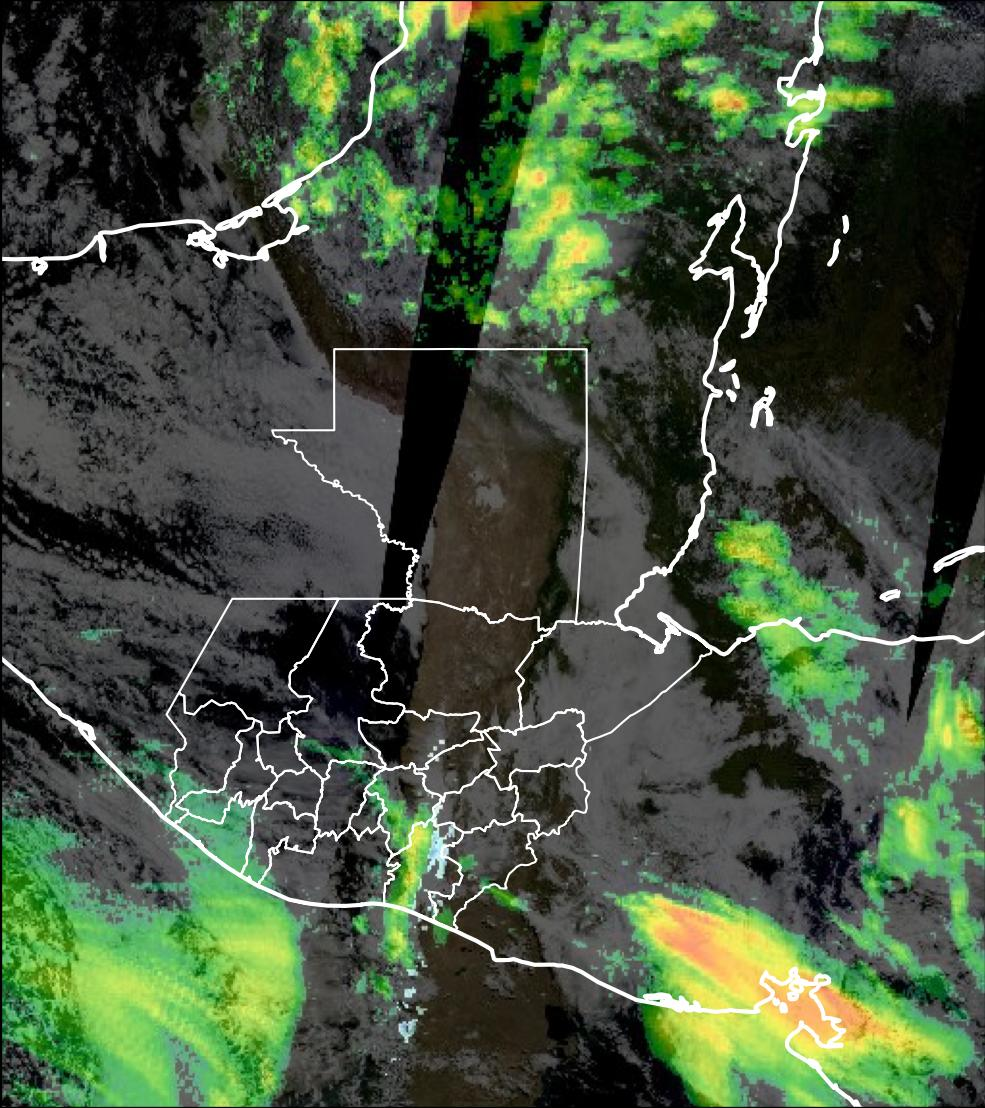precipitacion: (650, 896, 760, 994)
